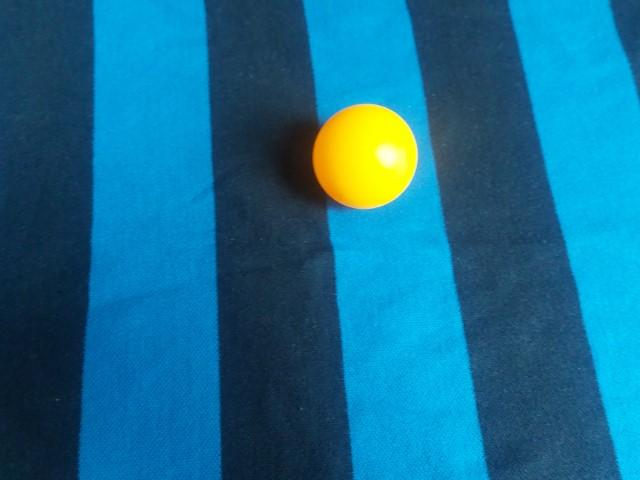oball: (212, 263, 334, 384)
